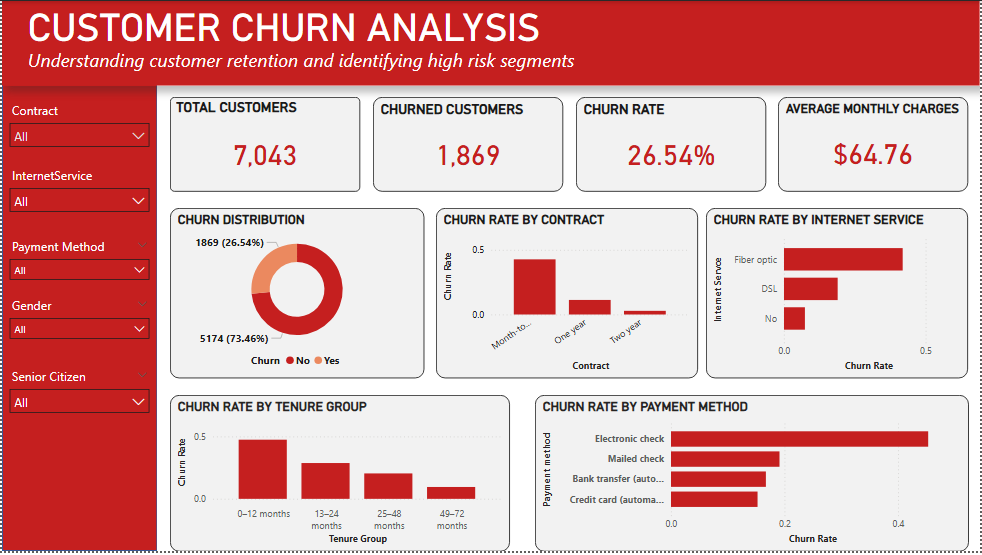

The page's visual inventory and layout, read from the dashboard file:
{"tool":"powerbi","page":{"name":"Page 1","canvas":[1280,720],"ordinal":0},"visuals":[{"type":"shape","box":[0,97.4,203.3,623.2],"z":0},{"type":"shape","box":[0,0,1280,110.9],"z":1000},{"type":"textbox","box":[28.6,0,937.3,70.6],"z":2000},{"type":"textbox","box":[28.6,55.4,976,42],"z":3000},{"type":"card","title":"CHURN RATE","fields":{"Values":["customer_churn_cleaned.Churn Rate"]},"box":[750.9,126,248.6,124.3],"z":4000},{"type":"card","title":"CHURNED CUSTOMERS","fields":{"Values":["CountNonNull(customer_churn_cleaned.customerID)"]},"box":[485.5,126,248.6,124.3],"z":5000},{"type":"card","title":"TOTAL CUSTOMERS","fields":{"Values":["CountNonNull(customer_churn_cleaned.customerID)"]},"box":[220.1,126,248.6,124.3],"z":6000},{"type":"card","title":"AVERAGE MONTHLY CHARGES","fields":{"Values":["Avg(customer_churn_cleaned.MonthlyCharges)"]},"box":[1016.3,126,248.6,124.3],"z":7000},{"type":"donutChart","title":"CHURN DISTRIBUTION","fields":{"Category":["customer_churn_cleaned.Churn"],"Y":["Count(customer_churn_cleaned.customerID)"]},"box":[220.1,270.4,332.6,223.4],"z":8000},{"type":"clusteredColumnChart","title":"CHURN RATE BY CONTRACT","fields":{"Category":["customer_churn_cleaned.Contract"],"Y":["customer_churn_cleaned.Churn Rate"]},"box":[567.8,270.4,342.7,223.4],"z":9000},{"type":"clusteredColumnChart","title":"CHURN RATE BY TENURE GROUP","fields":{"Category":["customer_churn_cleaned.tenure_group"],"Y":["customer_churn_cleaned.Churn Rate"]},"box":[220.1,515.7,445.1,204.9],"z":10000},{"type":"clusteredBarChart","title":"CHURN RATE BY PAYMENT METHOD","fields":{"Category":["customer_churn_cleaned.PaymentMethod"],"Y":["customer_churn_cleaned.Churn Rate"]},"box":[697.1,515.7,567.8,204.9],"z":11000},{"type":"clusteredBarChart","title":"CHURN RATE BY INTERNET SERVICE","fields":{"Category":["customer_churn_cleaned.InternetService"],"Y":["customer_churn_cleaned.Churn Rate"]},"box":[922.2,270.4,342.7,223.4],"z":12000},{"type":"slicer","fields":{"Values":["customer_churn_cleaned.Contract"]},"box":[0,126.4,202.8,85.2],"z":14000},{"type":"slicer","fields":{"Values":["customer_churn_cleaned.InternetService"]},"box":[0,211.6,202.8,95.5],"z":15000},{"type":"slicer","fields":{"Values":["customer_churn_cleaned.PaymentMethod"]},"box":[0,305.6,202.8,102.9],"z":16000},{"type":"slicer","fields":{"Values":["customer_churn_cleaned.gender"]},"box":[0,382,202.8,92.6],"z":17000},{"type":"slicer","fields":{"Values":["customer_churn_cleaned.SeniorCitizen"]},"box":[0,474.6,202.8,77.9],"z":17001}]}

Visuals, with their boxes in screenshot pixels (x1, y1, x2, y2), scaled from the page's 1280x720 canvas onto the 982x555 screenshot:
shape: (0,75,156,554)
shape: (0,0,981,85)
textbox: (22,0,741,54)
textbox: (22,43,771,75)
"CHURN RATE" card: (576,97,767,193)
"CHURNED CUSTOMERS" card: (372,97,563,193)
"TOTAL CUSTOMERS" card: (169,97,360,193)
"AVERAGE MONTHLY CHARGES" card: (780,97,970,193)
"CHURN DISTRIBUTION" donutChart: (169,208,424,381)
"CHURN RATE BY CONTRACT" clusteredColumnChart: (436,208,699,381)
"CHURN RATE BY TENURE GROUP" clusteredColumnChart: (169,398,510,554)
"CHURN RATE BY PAYMENT METHOD" clusteredBarChart: (535,398,970,554)
"CHURN RATE BY INTERNET SERVICE" clusteredBarChart: (708,208,970,381)
slicer - customer_churn_cleaned.Contract: (0,97,156,163)
slicer - customer_churn_cleaned.InternetService: (0,163,156,237)
slicer - customer_churn_cleaned.PaymentMethod: (0,236,156,315)
slicer - customer_churn_cleaned.gender: (0,294,156,366)
slicer - customer_churn_cleaned.SeniorCitizen: (0,366,156,426)
